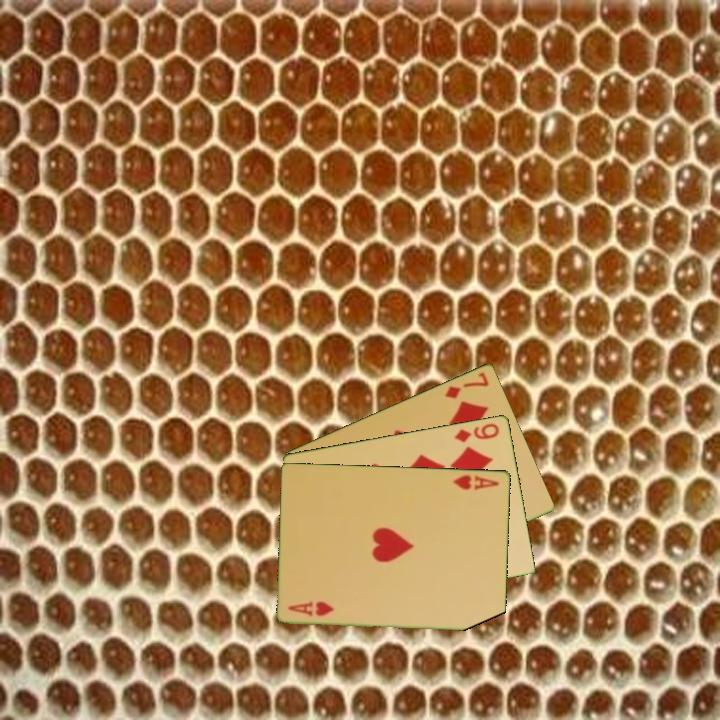7d: (441, 368, 492, 401)
9d: (451, 419, 502, 445)
Ah: (450, 471, 502, 492), (285, 598, 337, 619)
